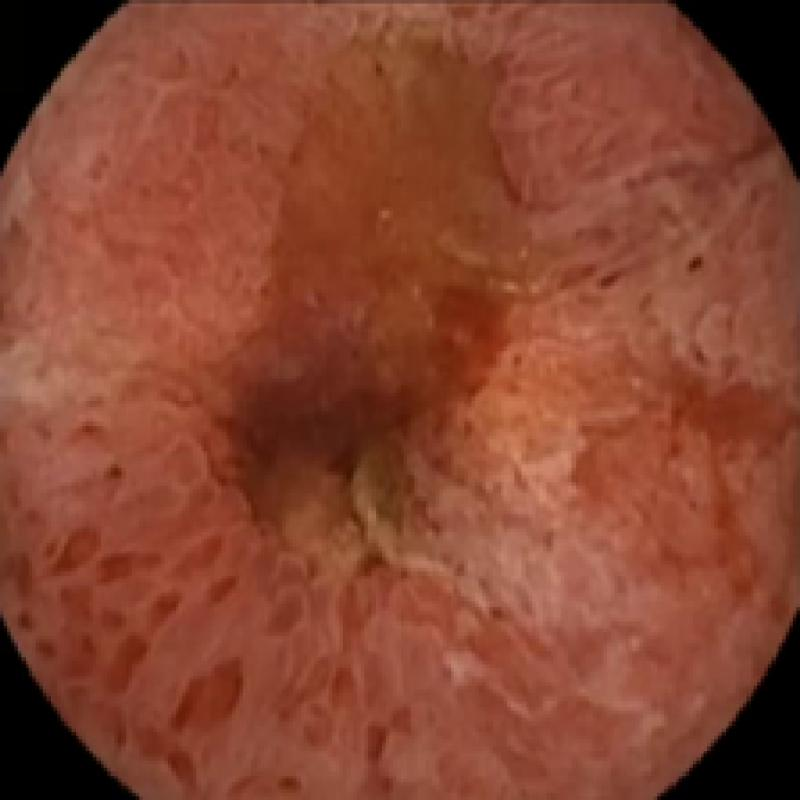bleeding: (43, 218, 800, 800)
